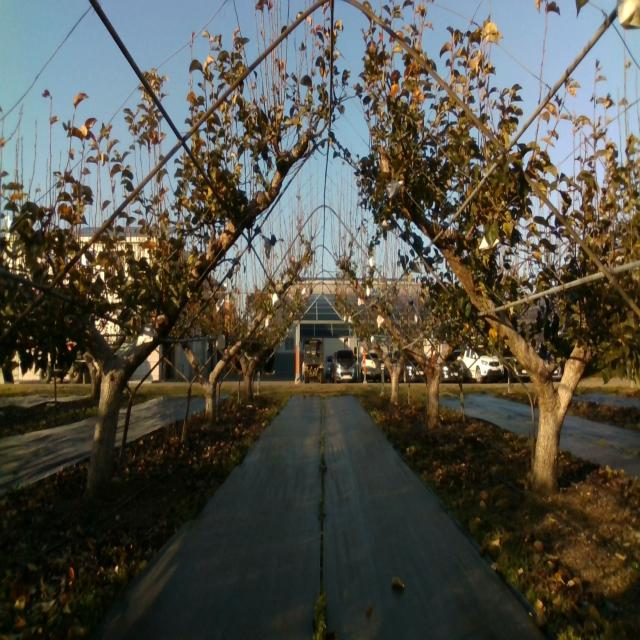pearbags: (137, 322, 154, 347), (386, 179, 403, 200)
